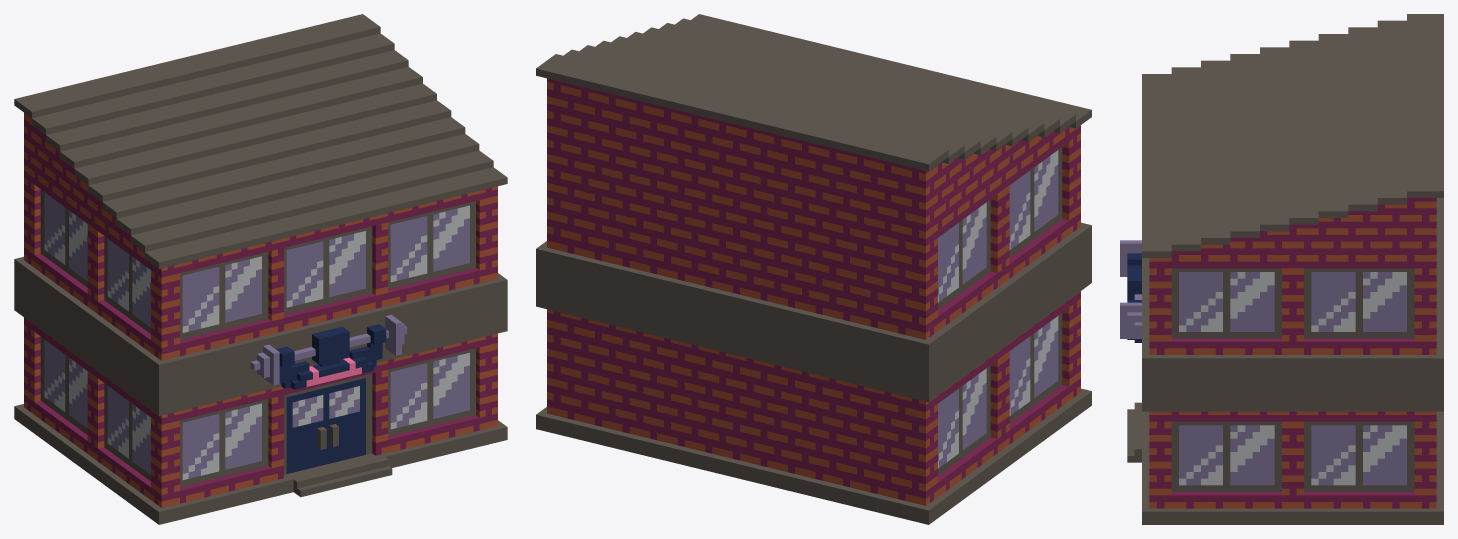
Rendered from gym_a.obj.
The picture shows the model from 3 angles, left to right: view 1: azimuth 30°, elevation 25°; view 2: azimuth 150°, elevation 25°; view 3: azimuth 270°, elevation 25°; orthographic projection. The views are drawn at different scales.
Size of the model in its own units: 5.7 by 5 by 4.4.
Materials: 1 (1 with a texture image).
